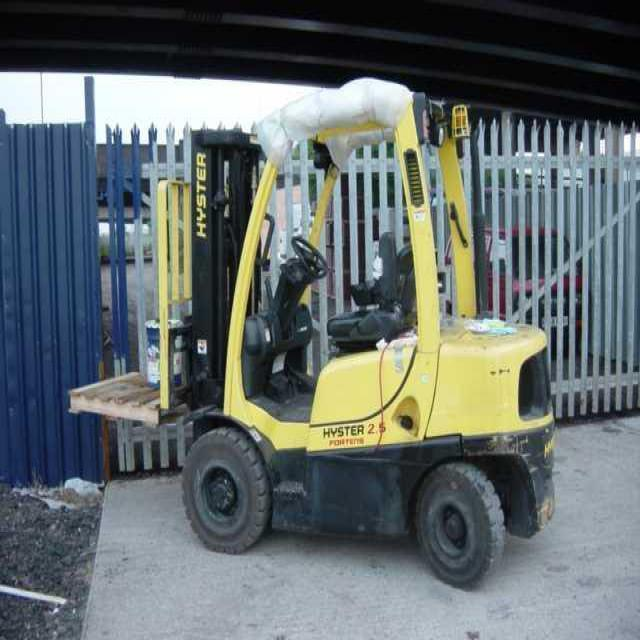forklift: (69, 76, 559, 589)
